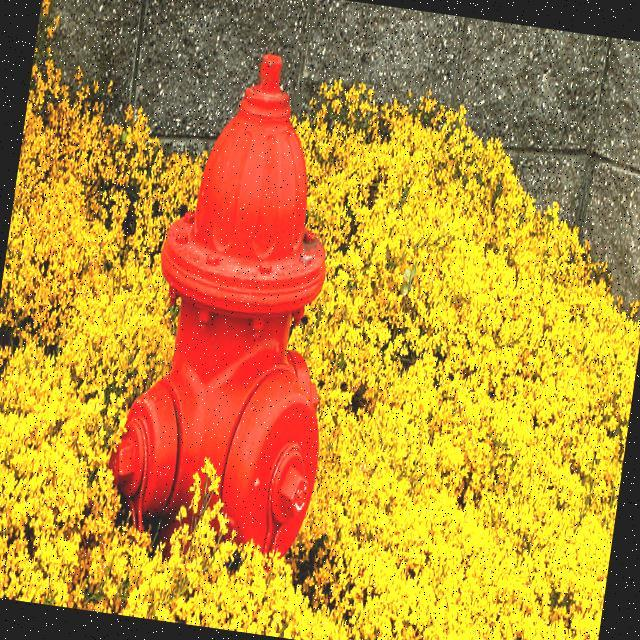fire_hydrant: (108, 40, 382, 569)
